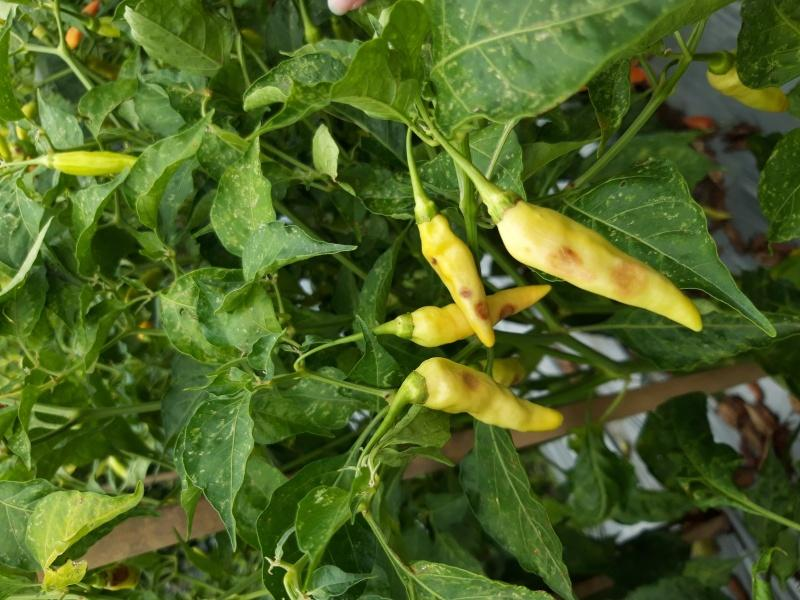antraknosa: (505, 202, 704, 329), (423, 358, 562, 433), (416, 218, 492, 348), (411, 285, 547, 348)
cabai_normal: (707, 57, 787, 112), (56, 149, 152, 174)
